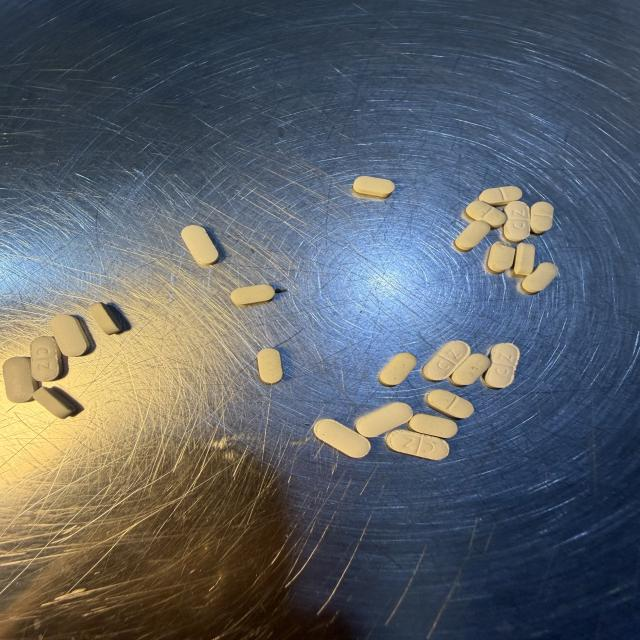pill: (314, 419, 370, 457), (355, 403, 412, 437), (422, 341, 470, 381), (386, 430, 449, 459), (2, 356, 38, 403), (50, 315, 90, 356), (485, 343, 519, 388), (182, 225, 218, 266), (31, 336, 62, 382), (426, 390, 474, 418), (33, 387, 76, 418), (378, 353, 417, 386), (451, 354, 490, 386), (409, 414, 457, 438), (466, 200, 506, 228), (455, 220, 491, 251), (522, 263, 558, 293), (504, 201, 530, 242), (89, 303, 122, 334), (231, 285, 275, 306), (353, 176, 395, 197), (257, 349, 282, 384), (479, 186, 522, 206), (488, 242, 515, 273), (530, 201, 554, 234), (514, 243, 535, 275)
